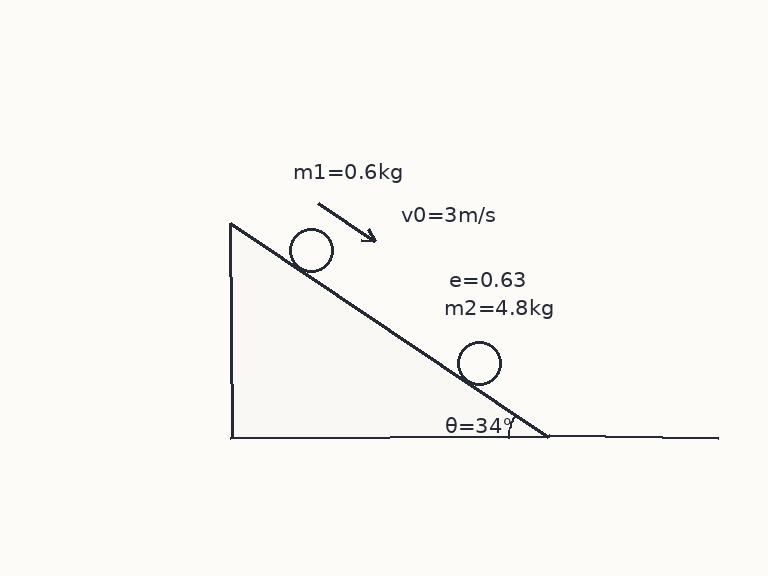ball: (287, 226, 335, 274), (455, 339, 503, 387)
ramp: (229, 220, 551, 439)
